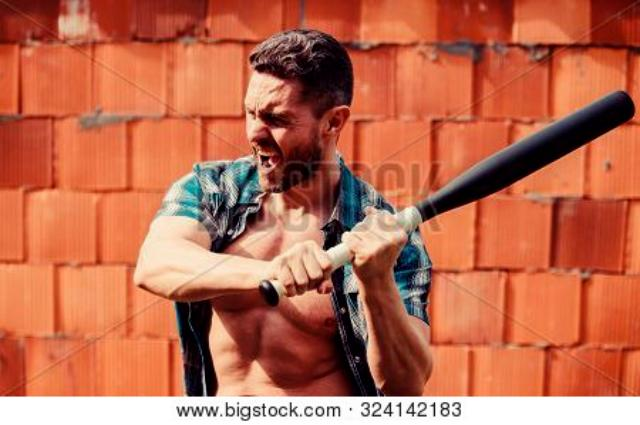baseball bat: (262, 90, 638, 308)
